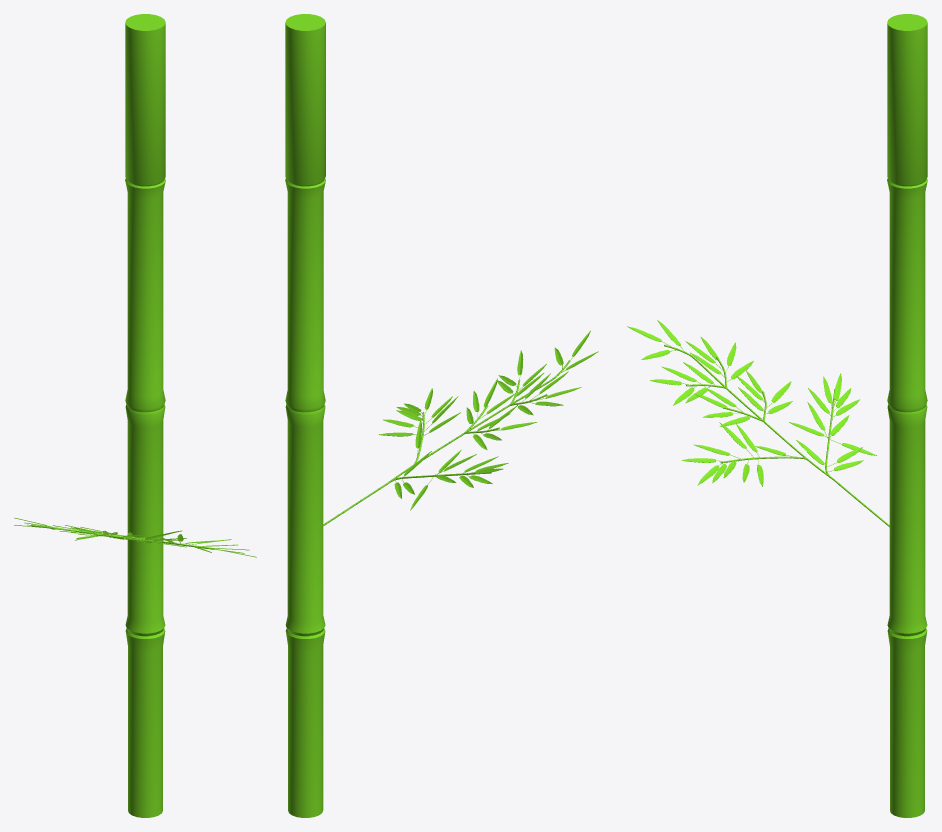
The model's file is deanamu1.fbx.
3 views of the same model, side by side, from view 1: azimuth 30°, elevation 25°; view 2: azimuth 150°, elevation 25°; view 3: azimuth 270°, elevation 25° (orthographic).
Parts seen in each view (by area): view 1: Cylinder.002; view 2: Cylinder.002; view 3: Cylinder.002.
Part boxes in pixels (x1=…): Cylinder.002: x1=14, y1=14, x2=256, y2=817; Cylinder.002: x1=285, y1=14, x2=598, y2=817; Cylinder.002: x1=627, y1=14, x2=927, y2=817.
Size of the model in its own units: 74.79 by 296 by 102.
